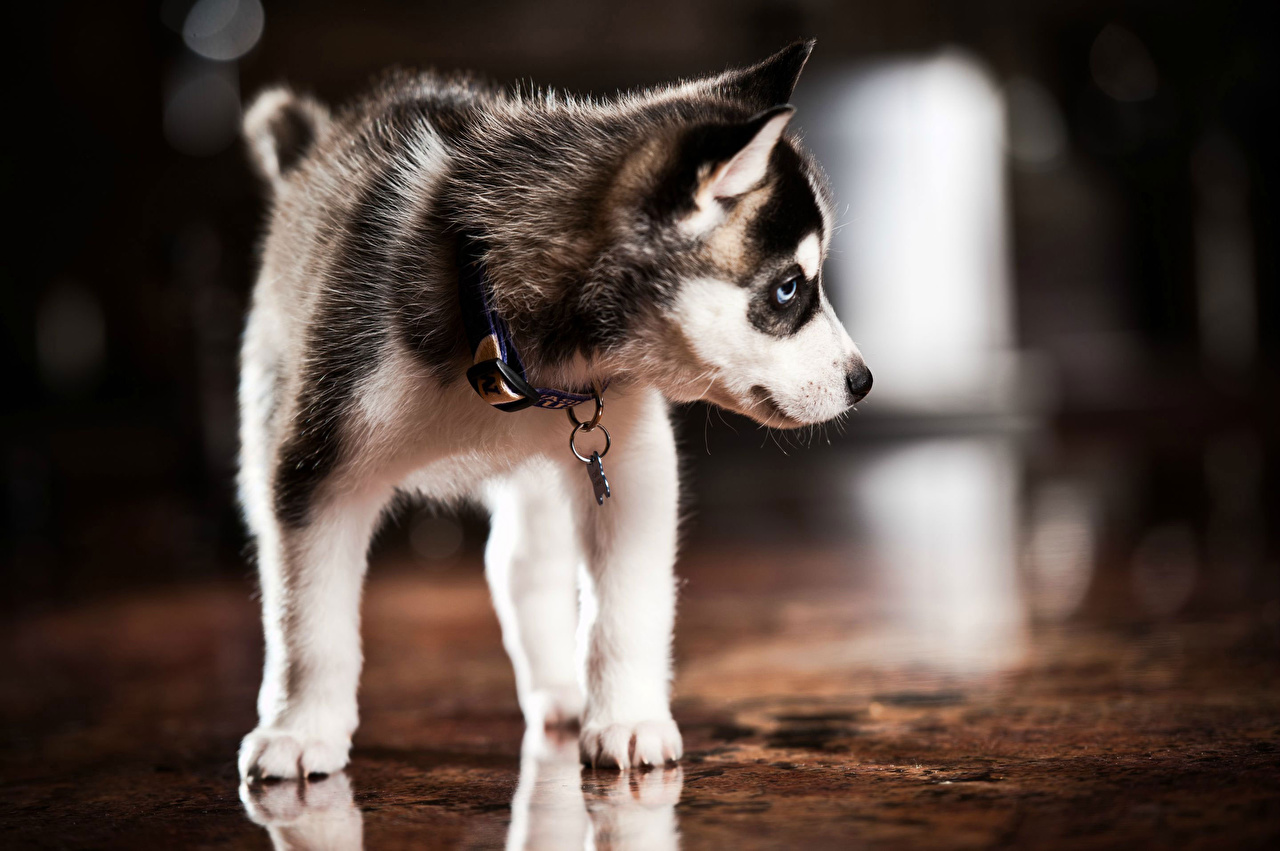husky: (246, 29, 909, 501)
